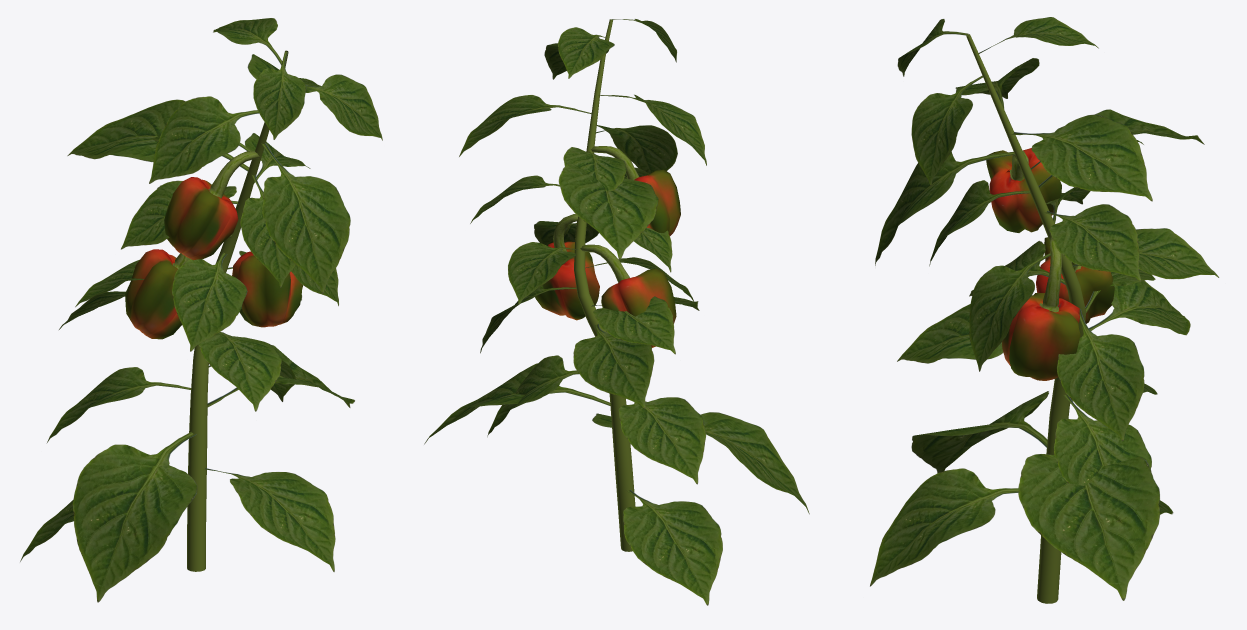
Rendered from bellpepper_step9-transformed.glb.
3 renders of one model, left to right at view 1: azimuth 30°, elevation 25°; view 2: azimuth 150°, elevation 25°; view 3: azimuth 270°, elevation 25°, orthographic. The views are drawn at different scales.
Visible parts, largest first — view 1: result8; view 2: result8; view 3: result8.
Boxes of the visible parts, x1,y1,x2,y2 form: result8: [20, 18, 382, 602]; result8: [424, 19, 809, 605]; result8: [870, 17, 1219, 603].
Size of the model in its own units: 10.97 by 15.14 by 8.64.
4 materials, 4 textured.
